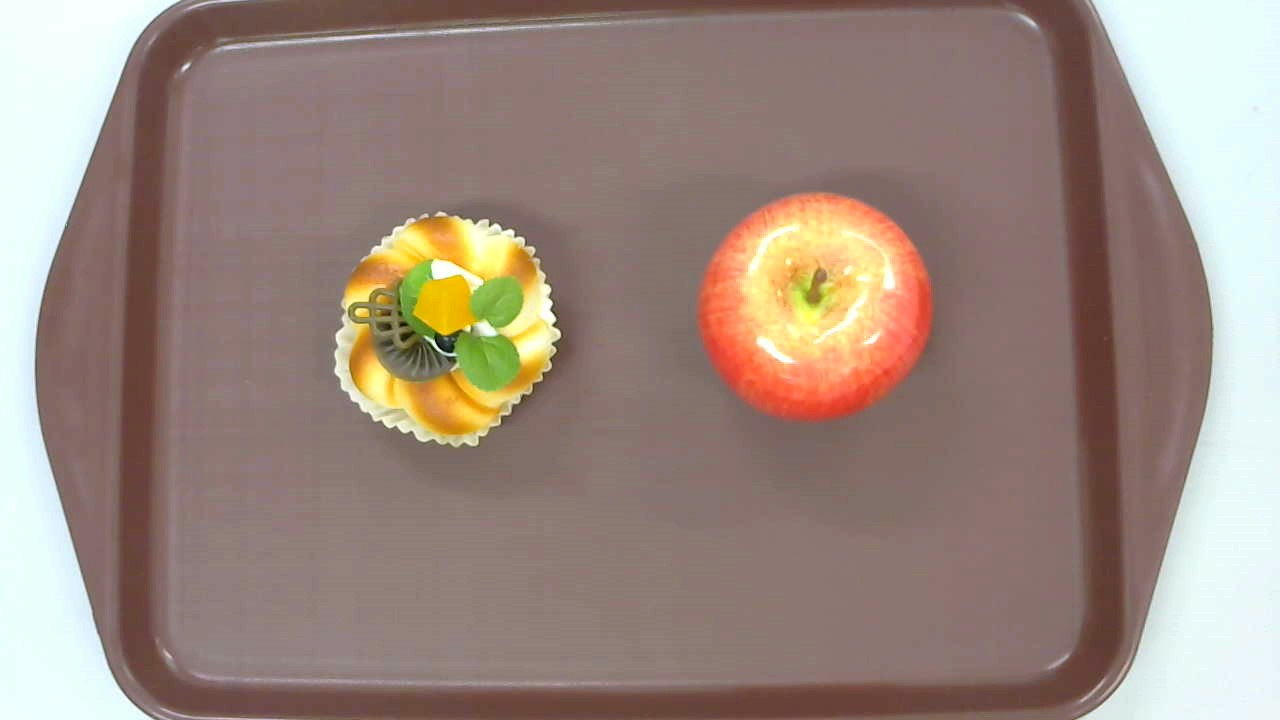fruit tart: (330, 211, 562, 451)
red apple: (696, 190, 935, 423)
